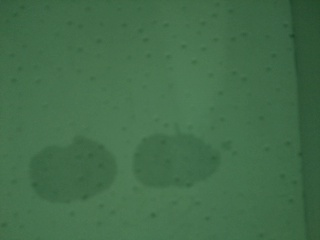Water_detected: (43, 131, 201, 200)
